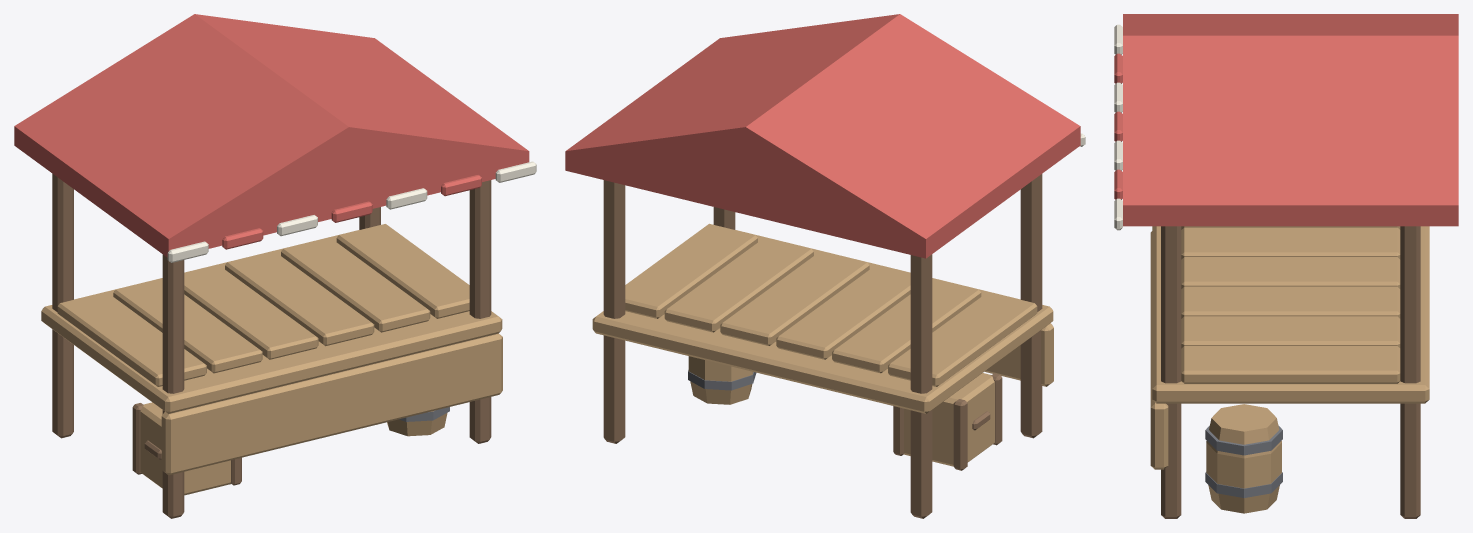
Rendered from medieval-mmo-starter-realm-market-stall-e0677cc9.glb.
3 views of the same model, side by side, from view 1: azimuth 30°, elevation 25°; view 2: azimuth 150°, elevation 25°; view 3: azimuth 270°, elevation 25° (orthographic). The views are drawn at different scales.
Parts seen in each view (by area): view 1: market-stall; view 2: market-stall; view 3: market-stall.
Part boxes in pixels (left/top/right/bottom): market-stall: left=14, top=14, right=536, bottom=518; market-stall: left=565, top=14, right=1085, bottom=518; market-stall: left=1114, top=14, right=1458, bottom=518.
Bounding box in the file's own units: 3.16 × 3.02 × 2.36.
